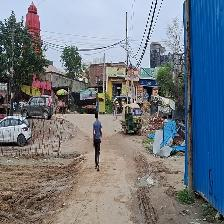Car: (0, 110, 32, 147), (120, 100, 145, 142), (20, 92, 52, 121)
Human: (91, 111, 104, 170)
Road: (53, 113, 146, 223)
